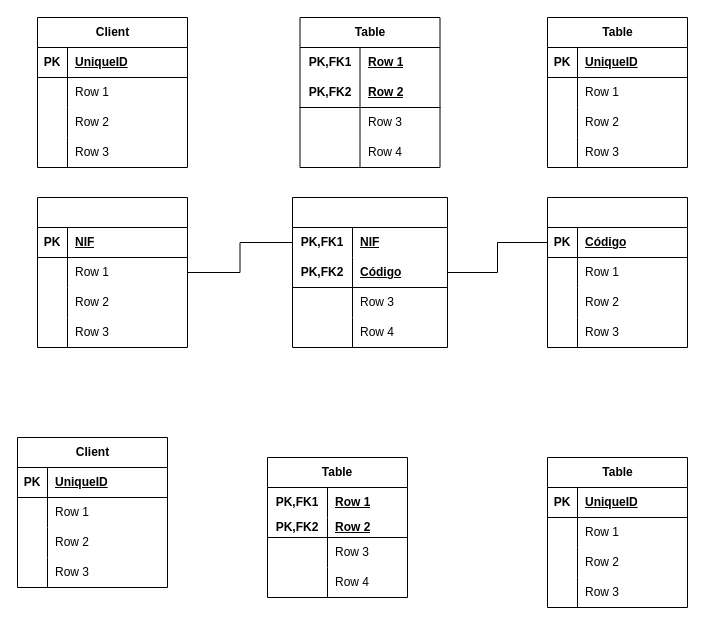
The diagram is 705 pixels wide and 625 high, and some of its shapes have lost their labels. Here are the shapes that lost their labels. From the top down, the box of each, then its label:
(36, 196, 188, 348): Cliente
(292, 196, 448, 348): A futuro
(546, 196, 688, 348): Producto
